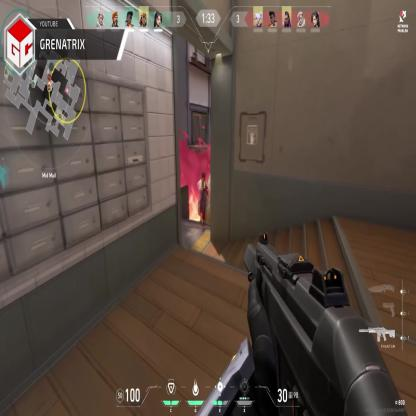enemy: (198, 171, 208, 228)
enemy_head: (202, 172, 206, 184)
